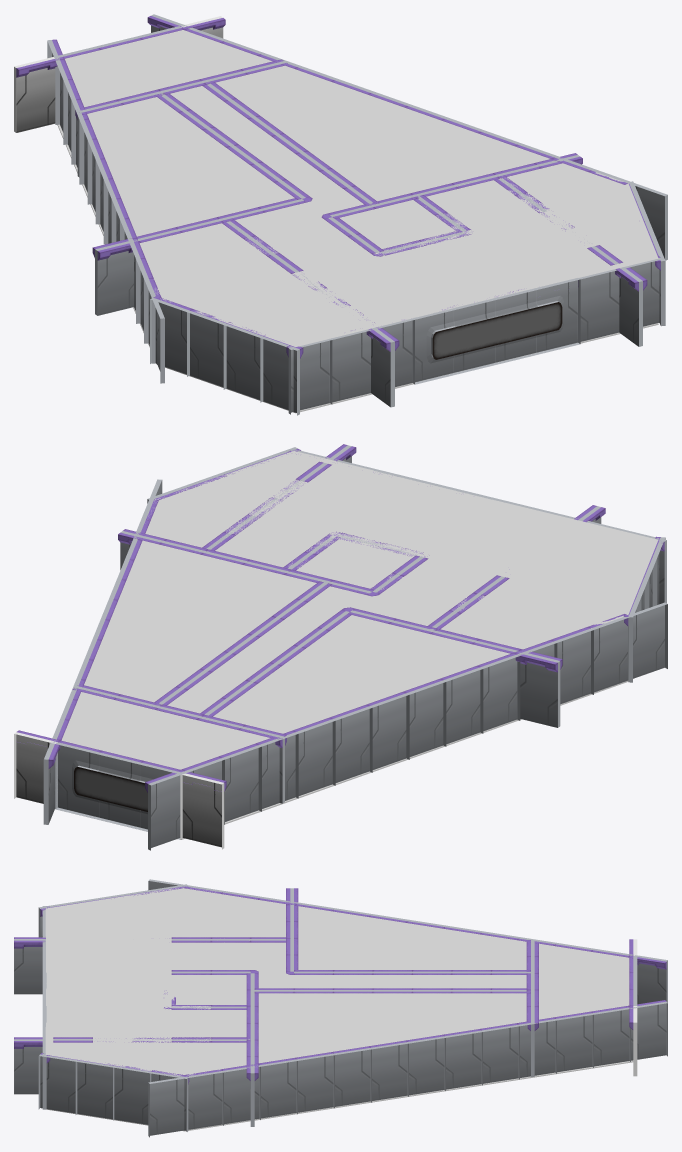
The model's file is Planta2.fbx.
3 views of the same model, one above another, from view 1: azimuth 30°, elevation 25°; view 2: azimuth 150°, elevation 25°; view 3: azimuth 270°, elevation 25° (orthographic). The views are drawn at different scales.
Parts seen in each view (by area): view 1: Techo, pared_exterior.404, pared_exterior.400, pared_exterior.396, pared_exterior.402, pared_exterior.459, pared_exterior.614, pared_exterior.591, pared_exterior.229, pared_exterior.620, pared_exterior.346, pared_exterior.458 (+14 smaller); view 2: Techo, pared_exterior.414, pared_exterior.229, pared_exterior.641, pared_exterior.478, pared_exterior.476, pared_exterior.480, pared_exterior.482, pared_exterior.346, pared_exterior.472, pared_exterior.477, pared_exterior.479 (+9 smaller); view 3: Techo, pared_exterior.132, pared_exterior.136, pared_exterior.134, pared_exterior.127, pared_exterior.225, pared_exterior.144, pared_exterior.206, pared_exterior.137, pared_exterior.131, pared_exterior.133, pared_exterior.128 (+11 smaller).
Part boxes in pixels (bbox=[...]): Techo: bbox=[65, 30, 658, 346]; pared_exterior.404: bbox=[536, 278, 580, 354]; pared_exterior.400: bbox=[412, 308, 455, 384]; pared_exterior.396: bbox=[454, 298, 497, 374]; pared_exterior.402: bbox=[495, 288, 538, 364]; pared_exterior.459: bbox=[223, 323, 263, 402]; pared_exterior.614: bbox=[579, 268, 620, 343]; pared_exterior.591: bbox=[330, 329, 372, 402]; pared_exterior.229: bbox=[14, 57, 55, 132]; pared_exterior.620: bbox=[288, 338, 332, 414]; pared_exterior.346: bbox=[95, 239, 138, 315]; pared_exterior.458: bbox=[187, 311, 226, 387]; Techo: bbox=[61, 451, 658, 769]; pared_exterior.414: bbox=[55, 742, 99, 819]; pared_exterior.229: bbox=[180, 773, 224, 849]; pared_exterior.641: bbox=[97, 752, 140, 829]; pared_exterior.478: bbox=[369, 693, 409, 772]; pared_exterior.476: bbox=[443, 667, 483, 746]; pared_exterior.480: bbox=[295, 719, 335, 798]; pared_exterior.482: bbox=[222, 745, 261, 824]; pared_exterior.346: bbox=[519, 652, 560, 727]; pared_exterior.472: bbox=[591, 616, 630, 694]; pared_exterior.477: bbox=[407, 680, 445, 756]; pared_exterior.479: bbox=[333, 706, 371, 782]; Techo: bbox=[45, 886, 629, 1075]; pared_exterior.132: bbox=[444, 1030, 482, 1090]; pared_exterior.136: bbox=[296, 1053, 334, 1114]; pared_exterior.134: bbox=[370, 1042, 408, 1102]; pared_exterior.127: bbox=[592, 1007, 630, 1067]; pared_exterior.225: bbox=[148, 1077, 186, 1137]; pared_exterior.144: bbox=[38, 1054, 77, 1114]; pared_exterior.206: bbox=[113, 1066, 151, 1124]; pared_exterior.137: bbox=[259, 1059, 297, 1118]; pared_exterior.131: bbox=[482, 1024, 519, 1083]; pared_exterior.133: bbox=[408, 1036, 445, 1095]; pared_exterior.128: bbox=[556, 1013, 593, 1072].
Bounding box in the file's own units: 2456 × 306 × 3315.
Materials: 4 (4 with a texture image).
